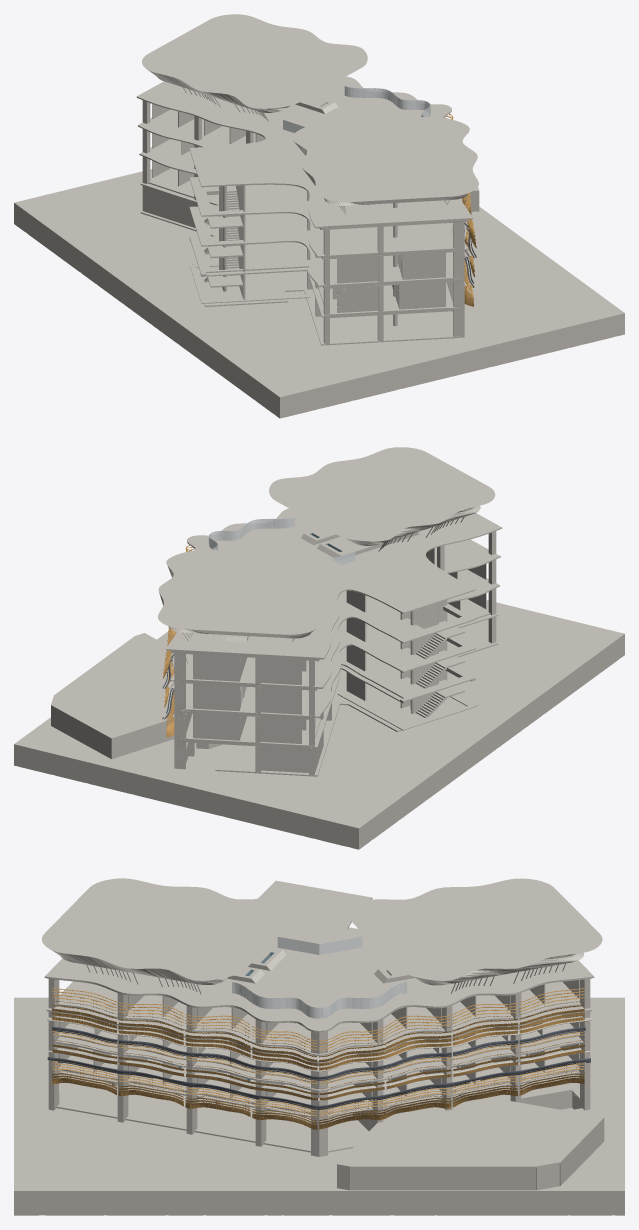
File: y2s2-bend-boo-combined.glb
3 views of the same model, one above another, from view 1: azimuth 30°, elevation 25°; view 2: azimuth 150°, elevation 25°; view 3: azimuth 270°, elevation 25° (orthographic). The views are drawn at different scales.
Visible parts, largest first — view 1: bend-boo-combined; view 2: bend-boo-combined; view 3: bend-boo-combined.
Part boxes in pixels (x1=…): bend-boo-combined: x1=14, y1=14, x2=624, y2=418; bend-boo-combined: x1=14, y1=447, x2=624, y2=849; bend-boo-combined: x1=14, y1=878, x2=624, y2=1215.
Bounding box in the file's own units: 7.49 × 3.47 × 10.
